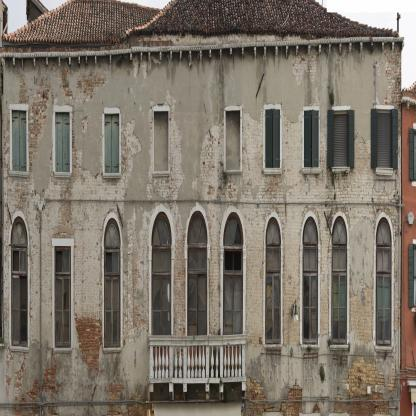Balcony: (147, 335, 247, 383)
Building Outline: (0, 0, 404, 416)
Door: (223, 273, 243, 378), (152, 273, 172, 378), (188, 273, 208, 378)
Facade: (0, 1, 404, 416)
Floor: (3, 202, 401, 402)
Floor Slab: (3, 379, 401, 387), (3, 193, 401, 201)
Molding: (0, 37, 404, 68)
Sill: (9, 171, 29, 178), (376, 167, 393, 175), (263, 168, 282, 175), (331, 167, 350, 174), (375, 346, 393, 353), (301, 168, 321, 174), (330, 345, 349, 351), (103, 347, 122, 353), (103, 173, 121, 179), (152, 171, 170, 177), (301, 345, 319, 351), (264, 345, 282, 351), (54, 172, 71, 178), (224, 170, 242, 175), (54, 348, 72, 353)
Top Floor: (3, 44, 401, 202)
Window: (11, 216, 28, 348), (104, 217, 121, 348), (331, 215, 347, 345), (376, 217, 392, 346), (265, 217, 281, 345), (302, 217, 318, 345), (54, 246, 71, 348), (55, 112, 70, 172), (377, 109, 392, 168), (265, 109, 280, 168), (12, 109, 26, 171), (226, 111, 240, 171), (105, 113, 119, 173), (154, 111, 168, 171), (304, 109, 318, 168), (334, 110, 348, 167), (151, 212, 172, 246), (223, 212, 243, 245), (187, 211, 207, 244), (223, 248, 243, 273), (152, 248, 172, 273), (188, 248, 208, 273)
